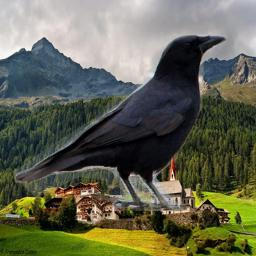Crow: (14, 34, 227, 211)
